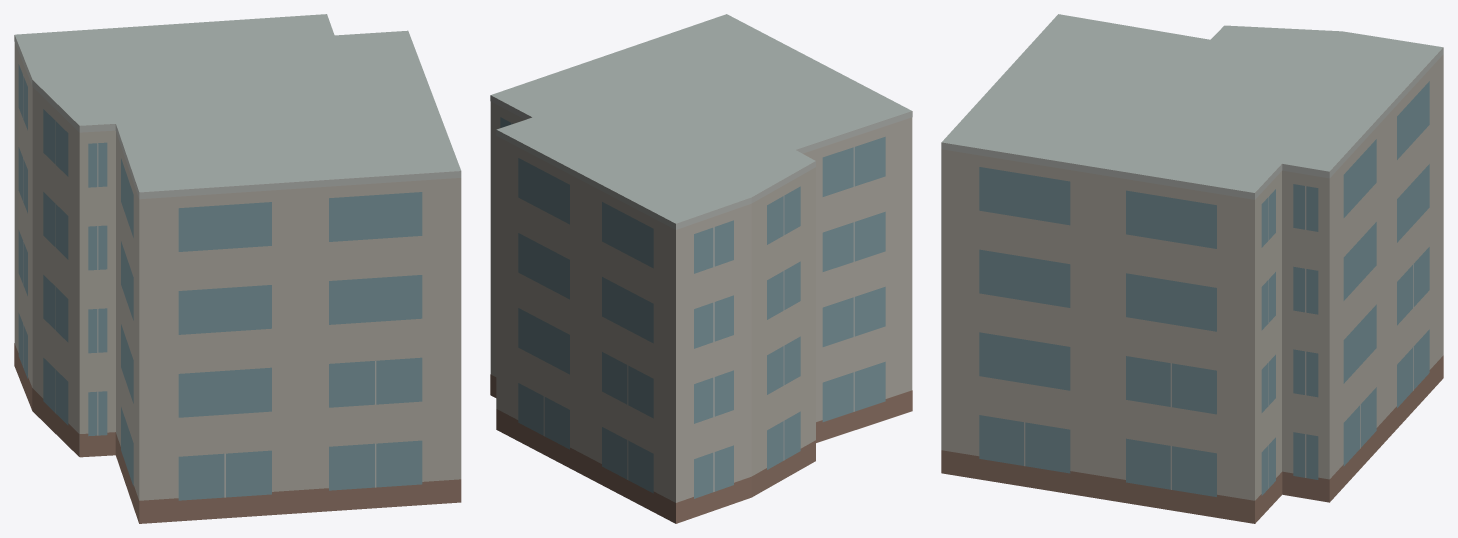
Rendered from survey-upis-33010261.glb.
3 renders of one model, left to right at view 1: azimuth 30°, elevation 25°; view 2: azimuth 150°, elevation 25°; view 3: azimuth 270°, elevation 25°, orthographic. The views are drawn at different scales.
Visible parts, largest first — view 1: survey-upis-33010261.tmp; view 2: survey-upis-33010261.tmp; view 3: survey-upis-33010261.tmp.
Boxes of the visible parts, x1,y1,x2,y2 form: survey-upis-33010261.tmp: [14, 14, 461, 523]; survey-upis-33010261.tmp: [490, 14, 912, 523]; survey-upis-33010261.tmp: [941, 14, 1443, 523].
Size of the model in its own units: 13.76 by 11.85 by 16.31.
